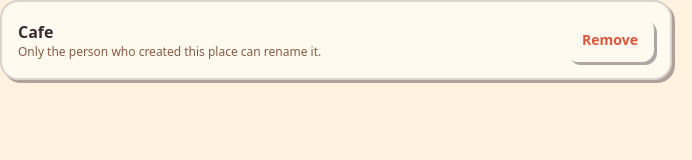
Test: SavedPlaceSettings › confirms removal and removes only the caller saved-list row
This screenshot has width=692, height=160.
Click the button "Remove": point(610, 40) top-left (566, 18), bottom-right (654, 62)
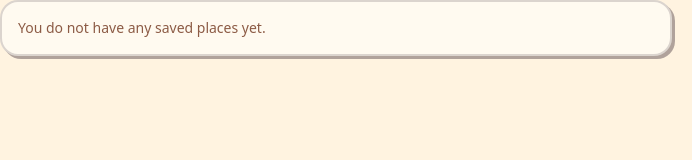
Check: the text "You do not have any saved places yet." is shown, box top-left (0, 0), bottom-right (672, 56)
